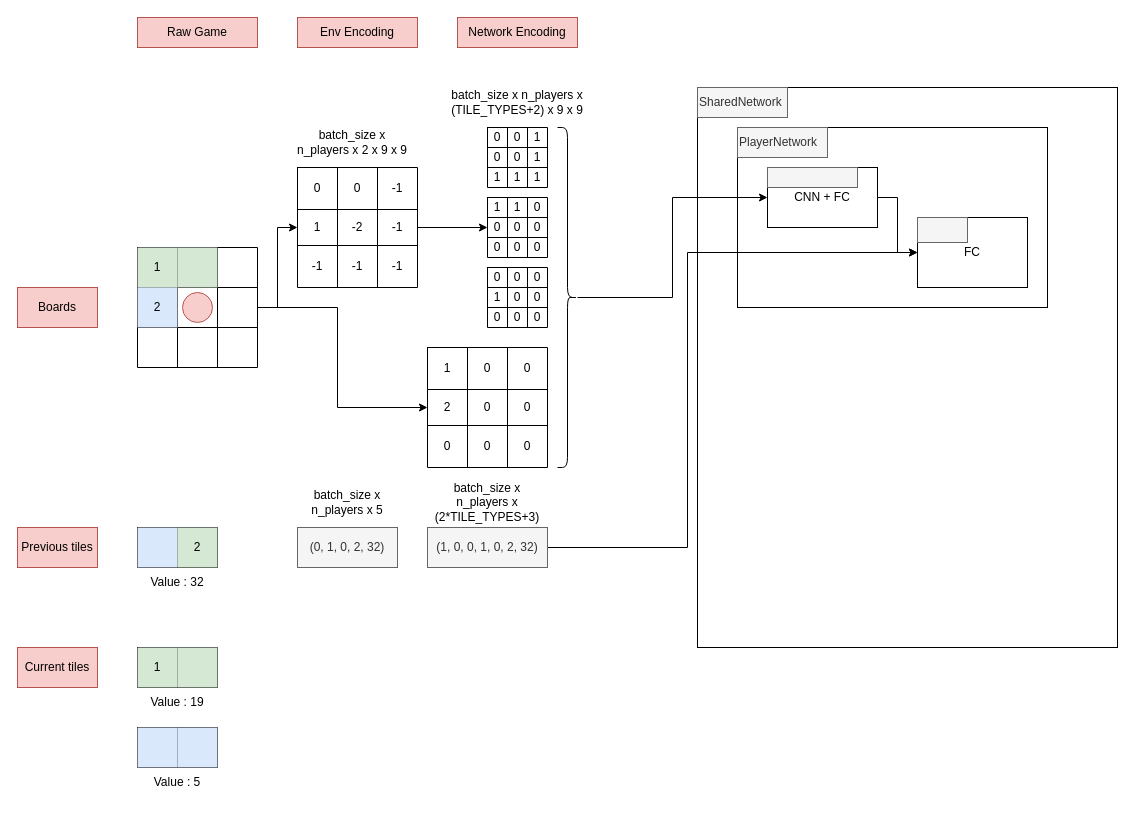
The diagram is 1135 pixels wide and 815 high, and some of its shapes have lost their labels. The shapes that lost their labels are listed below. From the top down, each one's centre as x and y in pixels, then its label:
[812,177]: BoardNetwork
[942,229]: NN
[197,307]: castle
